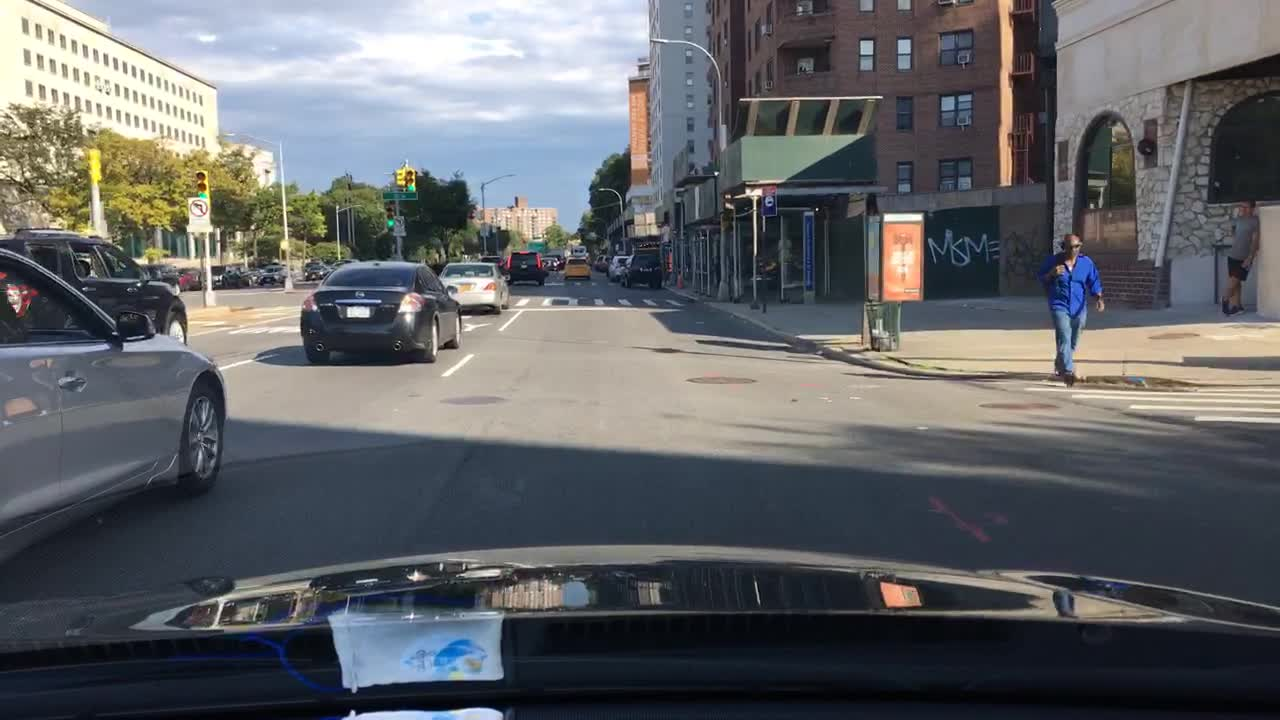car: (0, 245, 226, 566), (0, 228, 186, 345), (299, 258, 461, 365), (437, 261, 511, 315), (620, 251, 664, 289), (505, 250, 548, 286), (141, 262, 181, 288), (222, 266, 263, 289), (562, 256, 592, 282), (262, 261, 292, 286), (199, 263, 228, 288), (303, 259, 331, 281), (178, 266, 203, 290), (606, 255, 629, 280), (480, 254, 507, 274), (539, 254, 564, 270), (592, 254, 612, 270)
person: (1038, 231, 1105, 384), (1220, 193, 1261, 314)
traffic light: (192, 170, 207, 195), (384, 203, 398, 229), (404, 169, 416, 189), (393, 168, 403, 188)
traffic sign: (185, 194, 213, 231), (761, 182, 778, 218), (390, 214, 406, 238), (382, 190, 417, 199), (528, 241, 548, 253)
